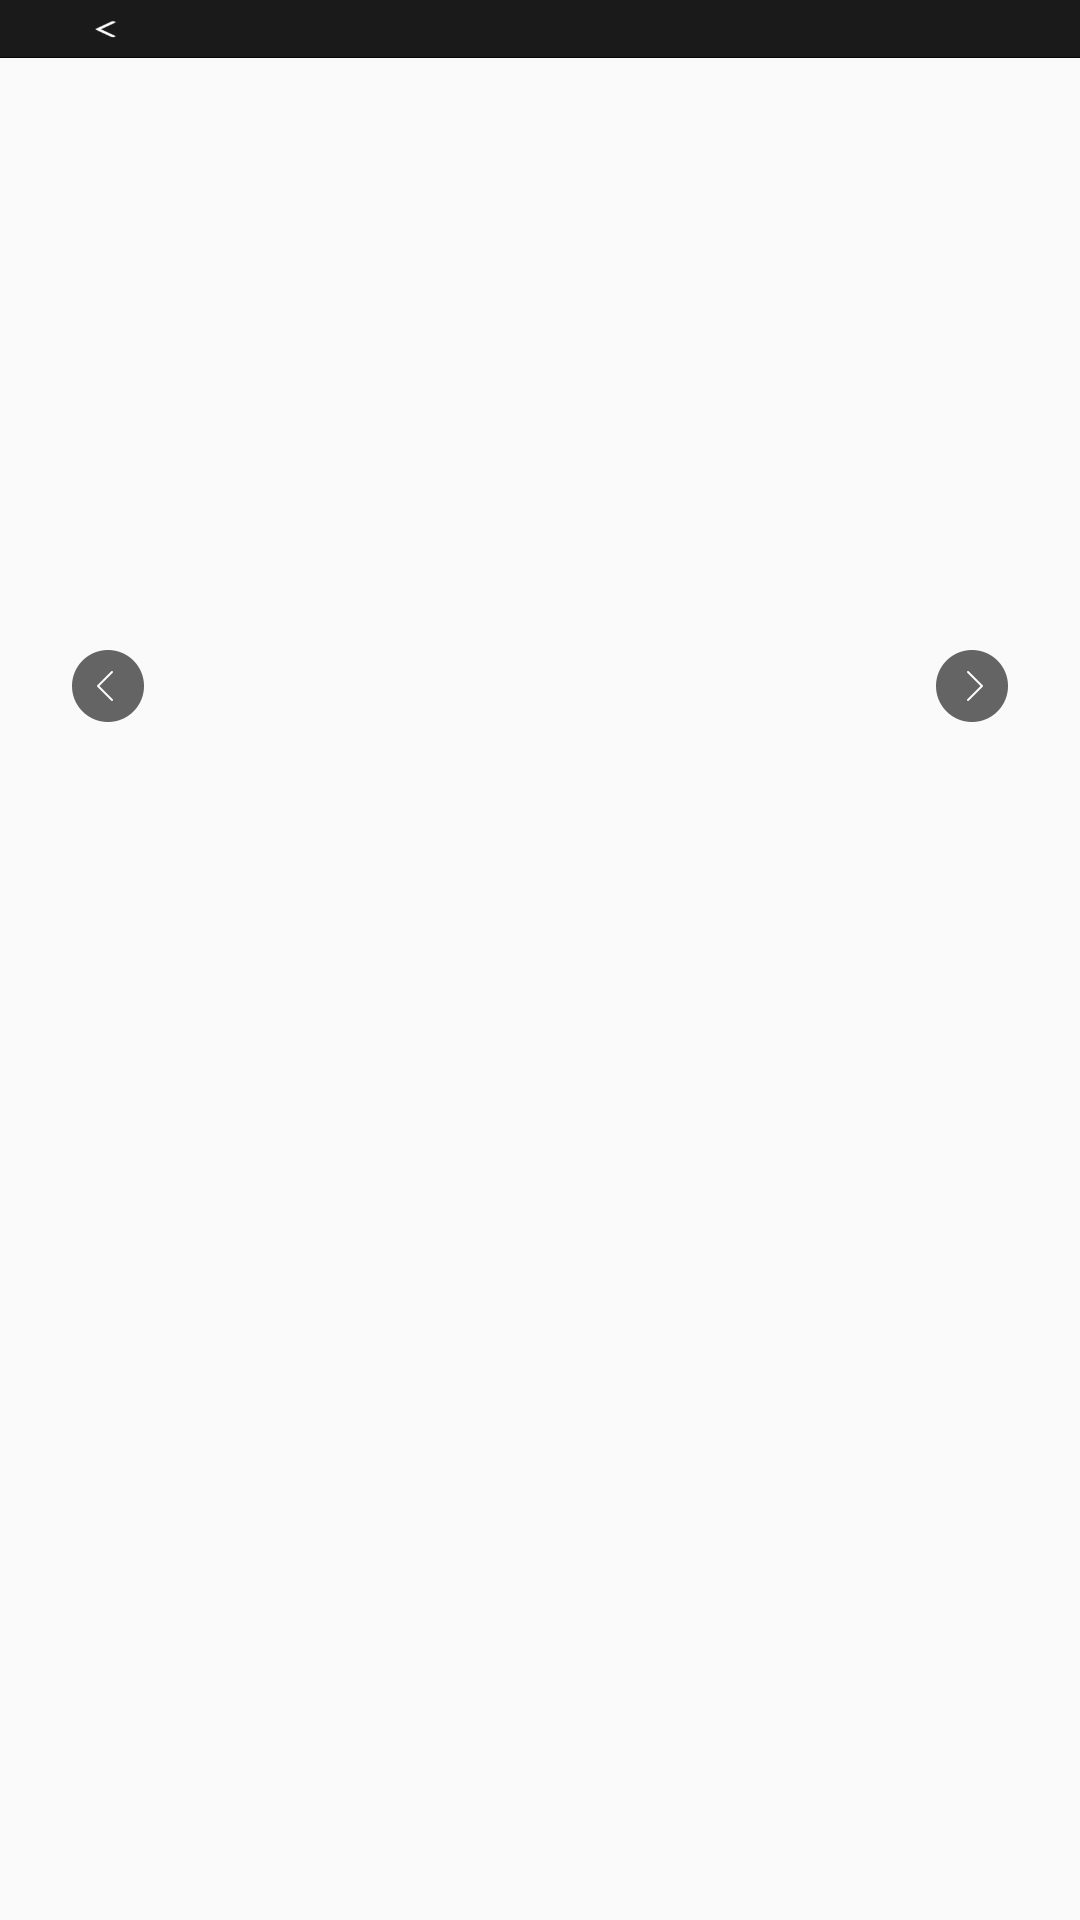

Screen size 1080px×1920px. Icon name, then its box in pixels as {"x1": x1, "y1": y1, "x2": x2, "y2": y2}:
map next: {"x1": 936, "y1": 650, "x2": 1008, "y2": 722}
map previous: {"x1": 72, "y1": 650, "x2": 144, "y2": 722}
